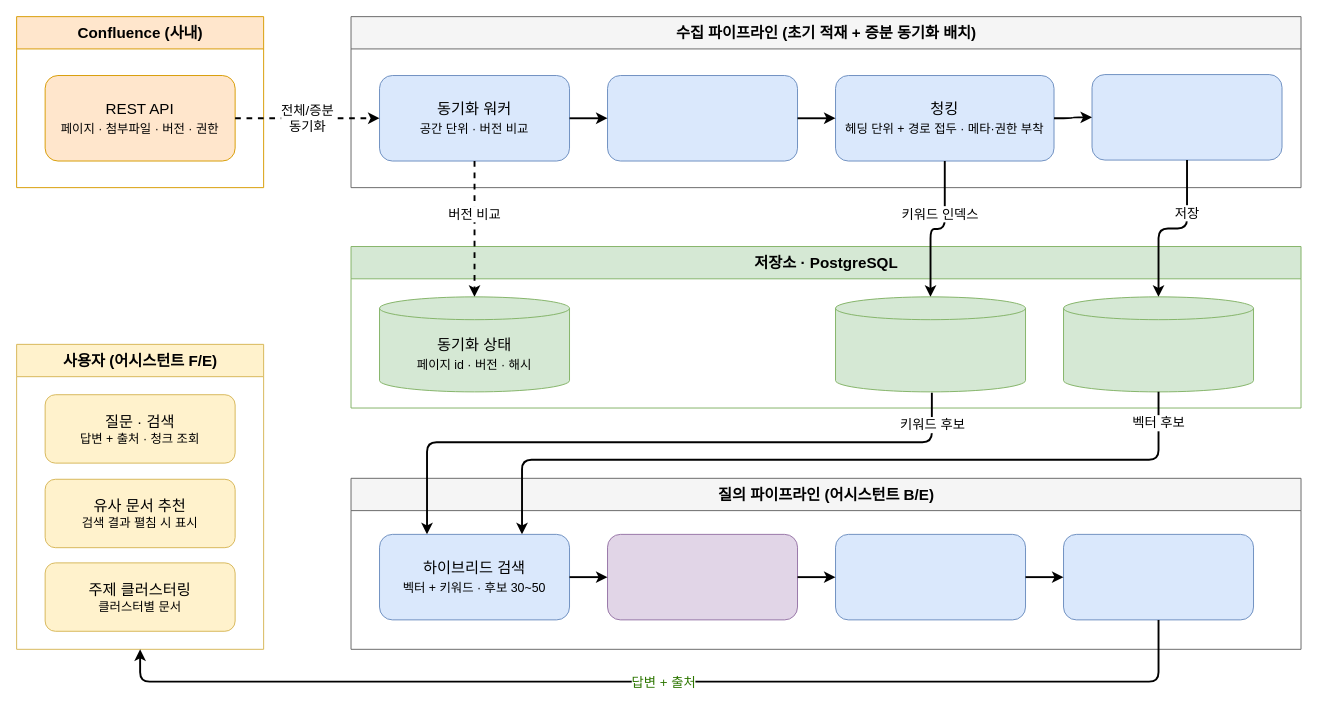
Some shapes in this 1318 by 707 pixel diagram are drawn without their labels. The centre of each missing label's shape, as x and y in pixels:
pgvector 청크 테이블 본문 · 임베딩 · 메타 · 권한 그룹: (1158,344)
답변 생성 LLM 출처 링크 · 수정일 · 미발견 시 거절: (1158,576)
리랭커 cross-encoder · top-5: (702,576)
맥락 구성 같은 페이지 묶기 · 원문 보강: (930,576)
임베딩 임베딩 모델 (배치 호출): (1186,117)
전문검색 인덱스 tsvector / BM25: (930,344)
파서 · 첨부 추출 HTML 표/pdf/docx/pptx/xlsx: (702,118)
